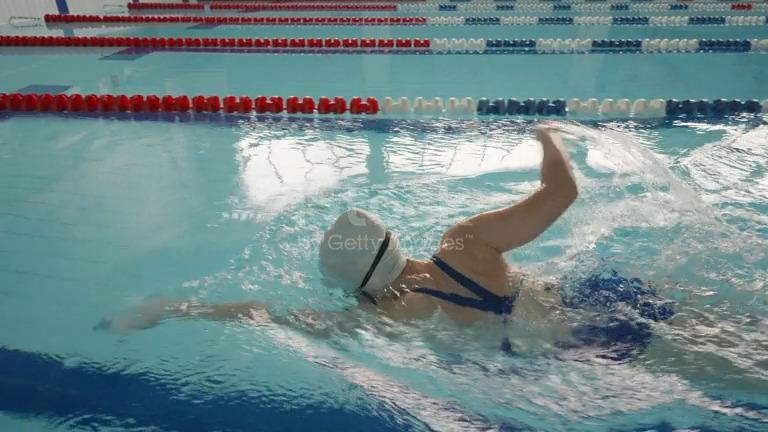Swimming: (74, 78, 705, 391)
